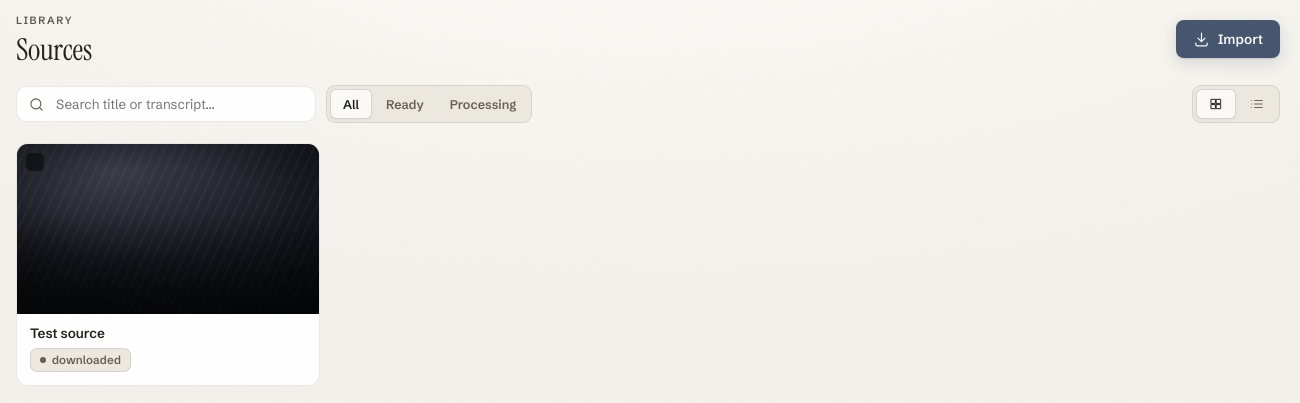
product truth: visible control inventory › omits unknown origin and duration glyphs in the rendered Library table
Step 1. Click the button named "Table view" → (1257, 104), box [1238,89,1276,119]
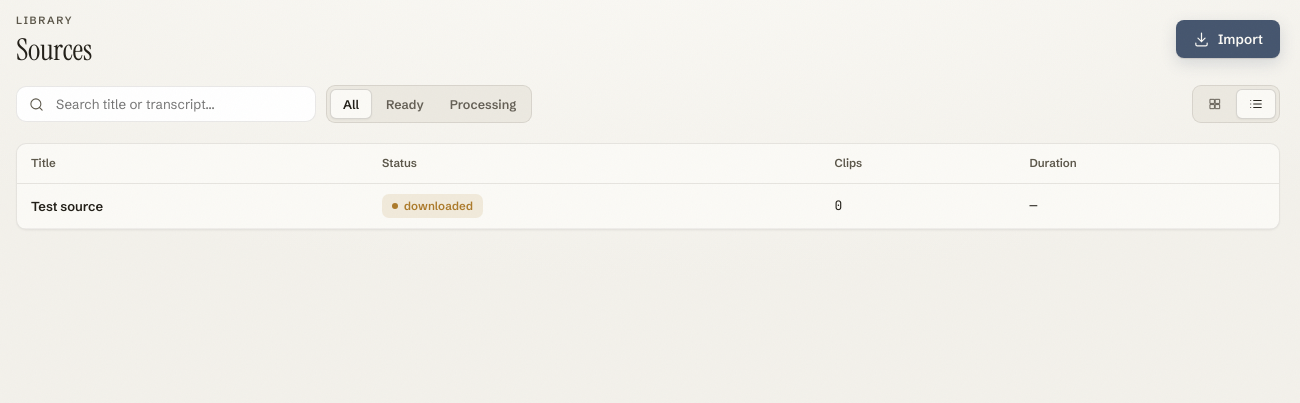
expect the text "Test source" is shown: met, box [31,198,103,214]
expect the table is shown: met, box [17,144,1279,229]
expect the text "—" is shown: met, box [1015,184,1279,229]
